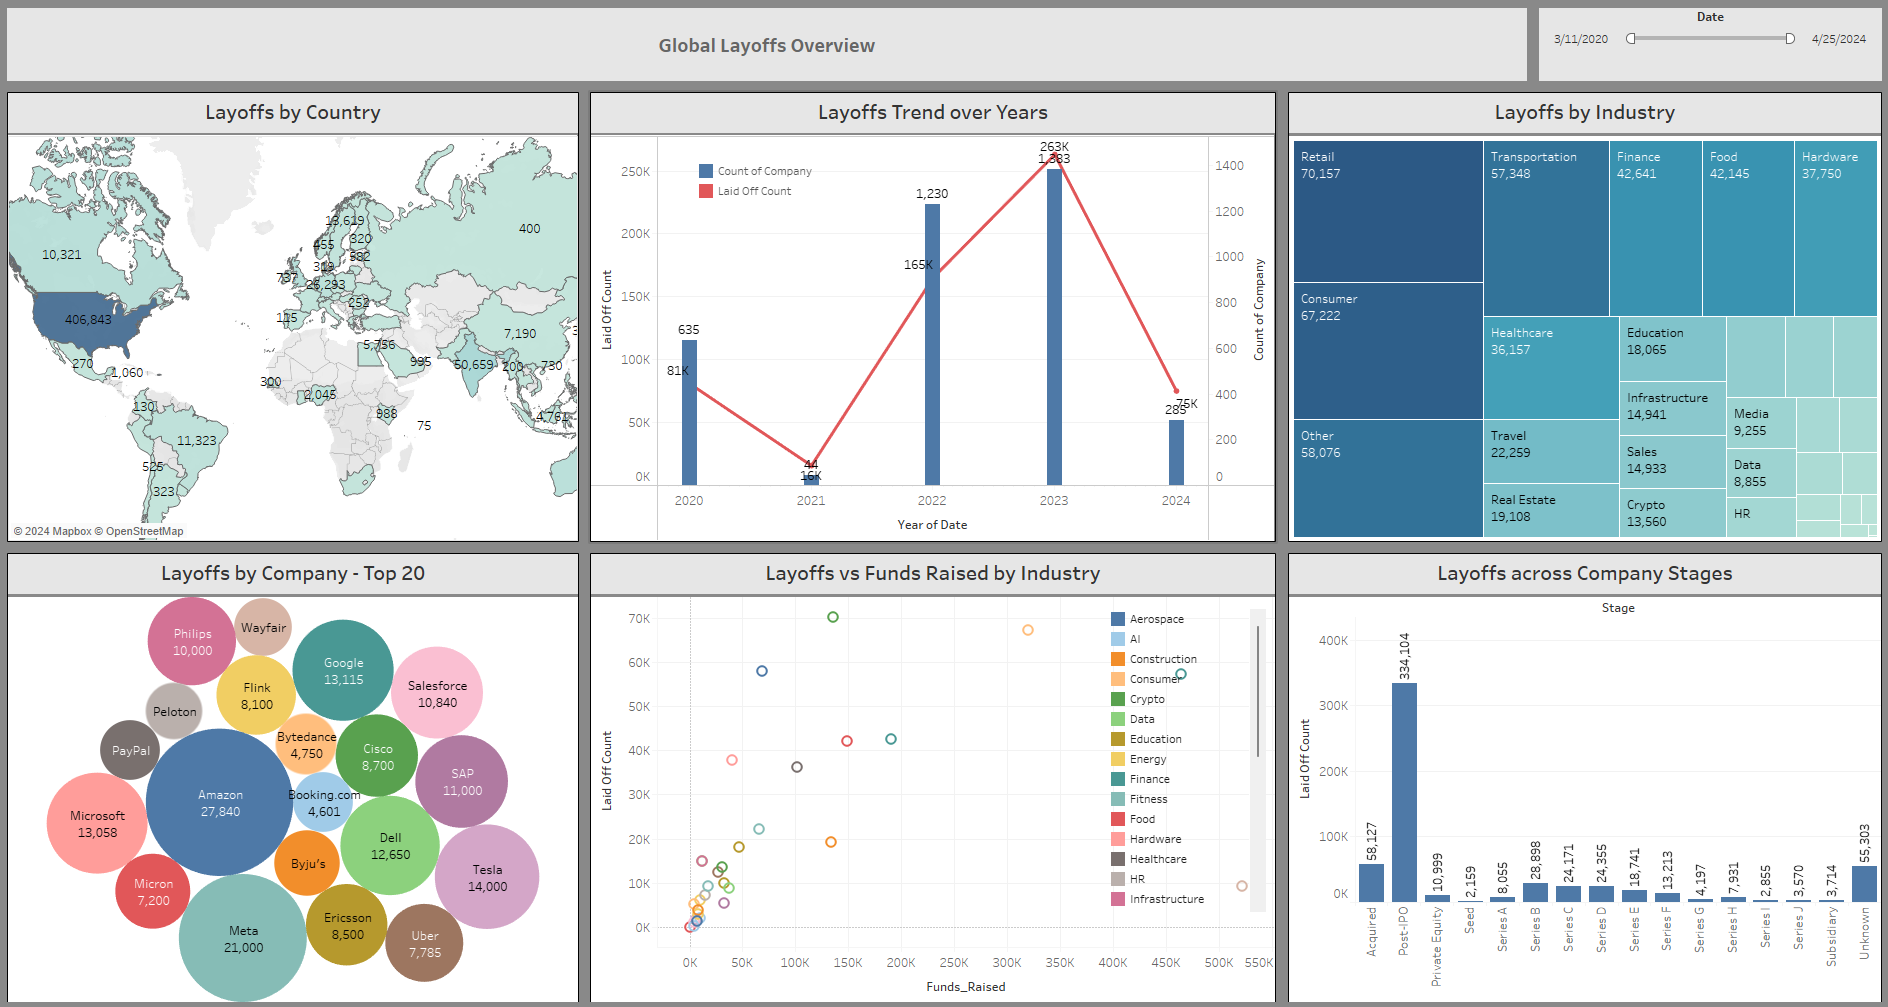

The page's visual inventory and layout, read from the dashboard file:
{"tool":"tableau","page":{"name":"Dashboard","canvas":[1000,1000],"units":"permille","ordinal":1},"visuals":[{"type":"text","box":[6,10.3,802.7,72.1]},{"type":"filter","title":"Layoffs by Country","param":"[federated.1vjdaa4025gn7p0zy8c5k1sbazqo].[none:Date:qk]","box":[814.7,10.3,181.1,72.1]},{"type":"worksheet","title":"Layoffs by Country","mark":"Multipolygon","box":[6,92.7,301.8,442.8]},{"type":"worksheet","title":"Layoffs Trend over Years","mark":"Automatic","rows":["Laid_Off_Count","Company"],"cols":["Date"],"box":[313.8,92.7,362.1,442.8]},{"type":"worksheet","title":"Layoffs by Industry","mark":"Automatic","box":[682,92.7,313.8,442.8]},{"type":"legend","title":"Layoffs Trend over Years","param":"[federated.1vjdaa4025gn7p0zy8c5k1sbazqo].[:Measure Names]","box":[369.3,160.7,86.3,49.4]},{"type":"worksheet","title":"Layoffs by Company - Top 20","mark":"Circle","box":[6,545.8,301.8,442.8]},{"type":"worksheet","title":"Layoffs vs Funds Raised by Industry","mark":"Automatic","rows":["Laid_Off_Count"],"cols":["Funds_Raised"],"box":[313.8,545.8,362.1,442.8]},{"type":"worksheet","title":"Layoffs across Company Stages","mark":"Automatic","rows":["Laid_Off_Count"],"cols":["Stage"],"box":[682,545.8,313.8,442.8]},{"type":"legend","title":"Layoffs vs Funds Raised by Industry","param":"[federated.1vjdaa4025gn7p0zy8c5k1sbazqo].[none:Industry:nk]","box":[587.2,601.4,84.5,298.7]}]}

Visuals, with their boxes on the dashboard's canvas, which has no fixed pixel size, in thousandths of its width and height (x1, y1, x2, y2). These are canvas units, not pixel positions in the 1888x1007 screenshot, which may show the page scaled, cropped or inside an application window:
text: 6:10:809:82
"Layoffs by Country" filter: 815:10:996:82
"Layoffs by Country" worksheet (Multipolygon marks): 6:93:308:536
"Layoffs Trend over Years" worksheet: 314:93:676:536
"Layoffs by Industry" worksheet: 682:93:996:536
"Layoffs Trend over Years" legend: 369:161:456:210
"Layoffs by Company - Top 20" worksheet (Circle marks): 6:546:308:989
"Layoffs vs Funds Raised by Industry" worksheet: 314:546:676:989
"Layoffs across Company Stages" worksheet: 682:546:996:989
"Layoffs vs Funds Raised by Industry" legend: 587:601:672:900
